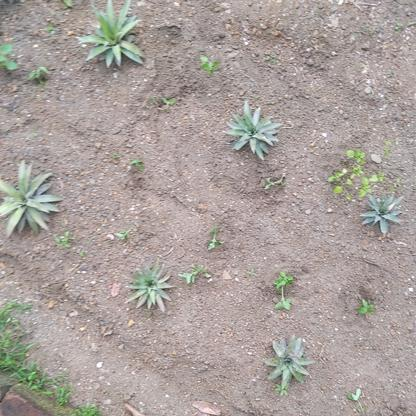pineapple: (76, 1, 152, 71), (1, 158, 64, 236), (225, 97, 283, 159), (261, 336, 314, 391), (127, 263, 177, 312), (360, 188, 408, 237)
weed: (324, 150, 386, 199), (1, 41, 54, 88), (178, 258, 215, 287), (271, 271, 296, 313), (200, 227, 237, 253), (354, 293, 380, 317)
